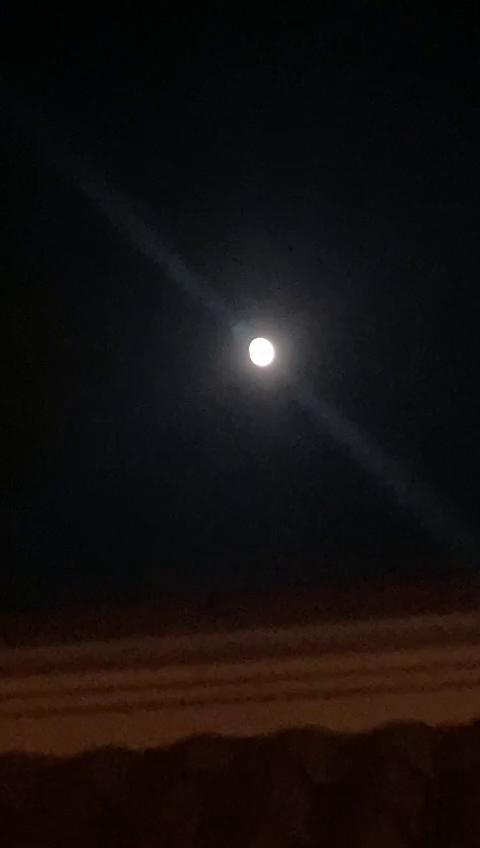moon: (244, 358, 278, 393)
